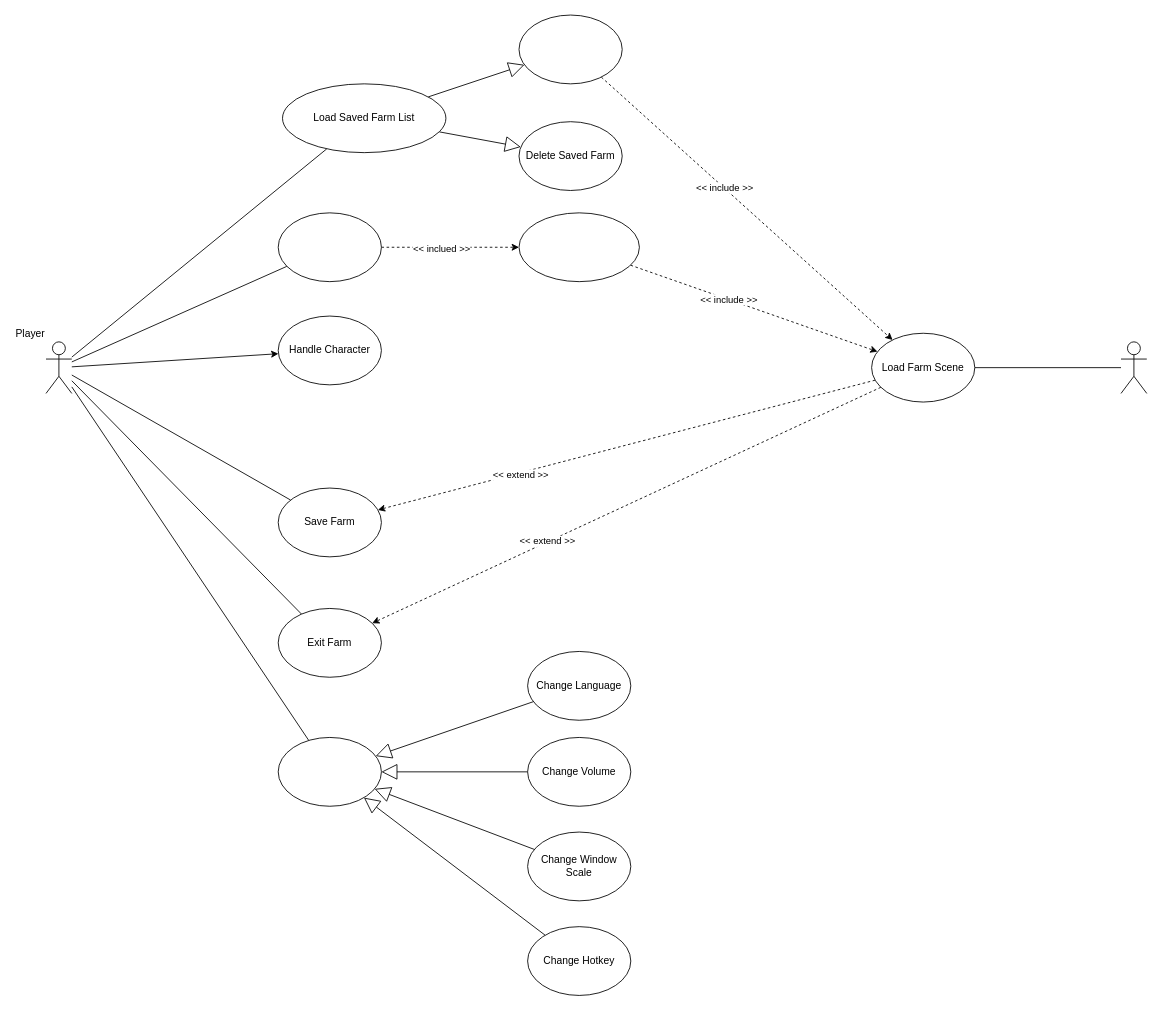
The diagram is 1162 pixels wide and 1011 high, and some of its shapes have lost their labels. The box of each missing label's shape, as (x1, y1, x2, y2) in pixels:
Create New Farm: (277, 212, 381, 282)
Customize App Configuration: (277, 737, 381, 806)
Customize Character: (518, 212, 639, 282)
Load Farm: (518, 14, 622, 84)
System: (1120, 341, 1147, 393)
